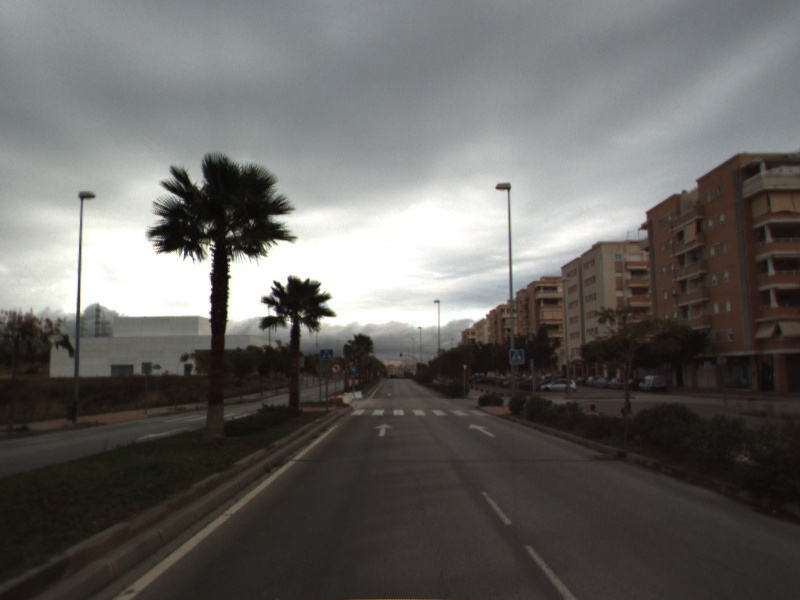STRAIGHT: (466, 422, 498, 439), (372, 421, 395, 438)
